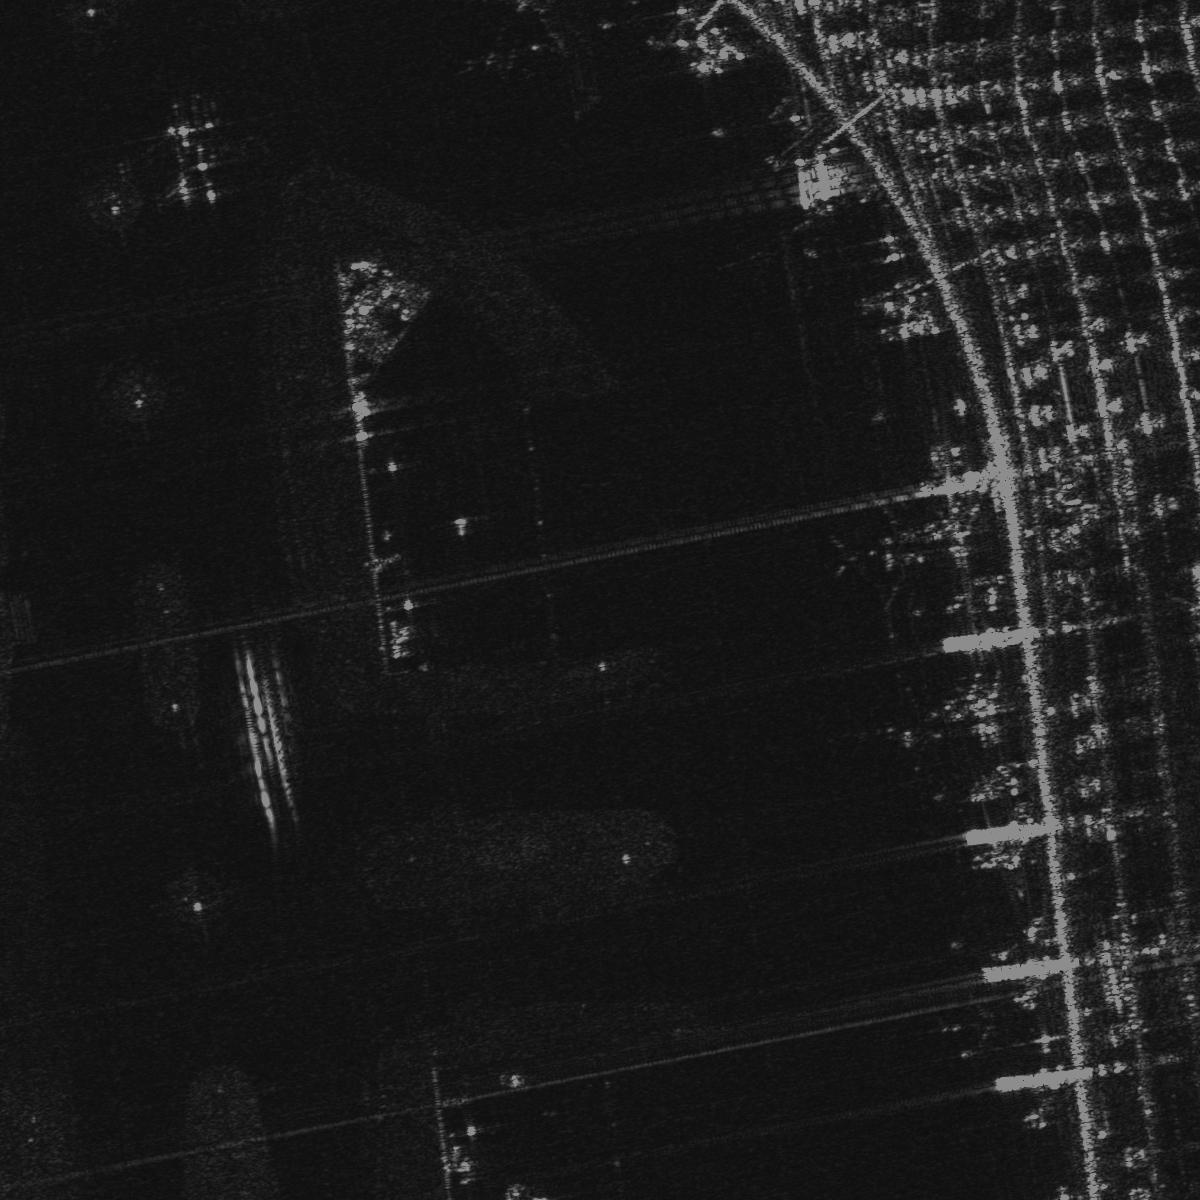A220: (936, 993, 1011, 1051)
other: (830, 491, 942, 613), (136, 98, 240, 207), (862, 676, 952, 775)
